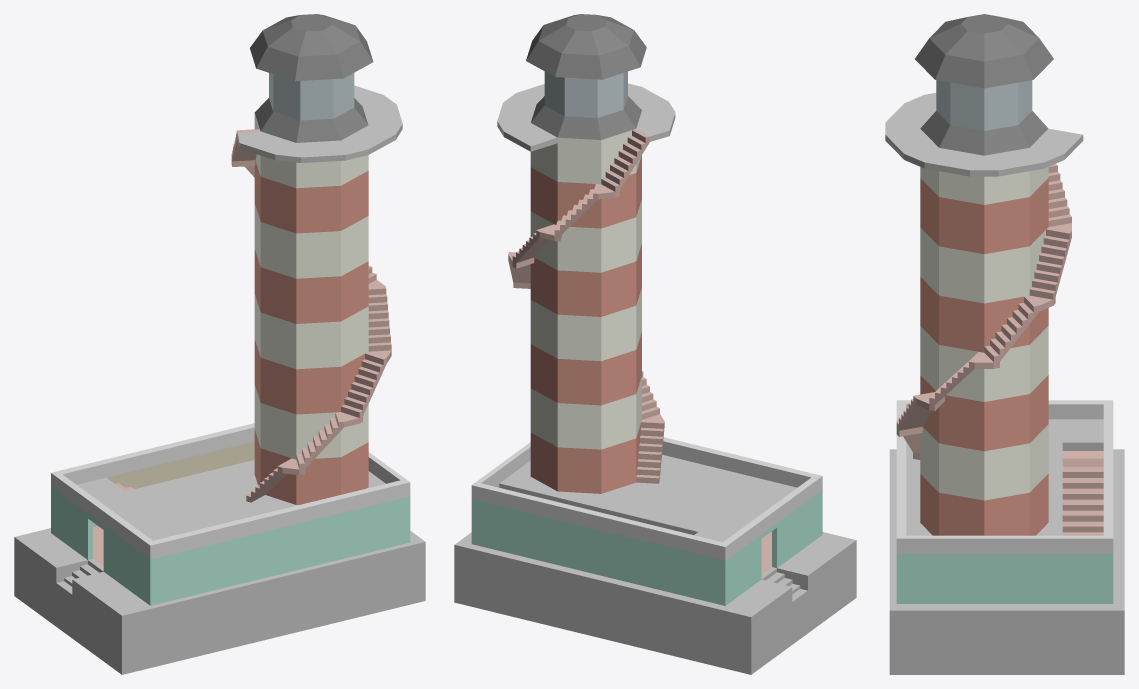
Rendered from Lighthouse.fbx.
3 renders of one model, left to right at view 1: azimuth 30°, elevation 25°; view 2: azimuth 150°, elevation 25°; view 3: azimuth 270°, elevation 25°, orthographic. The views are drawn at different scales.
Parts seen in each view (by area): view 1: Lighthouse; view 2: Lighthouse; view 3: Lighthouse.
Part boxes in pixels (bbox=[...]): Lighthouse: bbox=[14, 14, 425, 674]; Lighthouse: bbox=[454, 14, 856, 674]; Lighthouse: bbox=[885, 14, 1124, 674].
Bounding box in the file's own units: 22.84 × 39.48 × 13.94.
